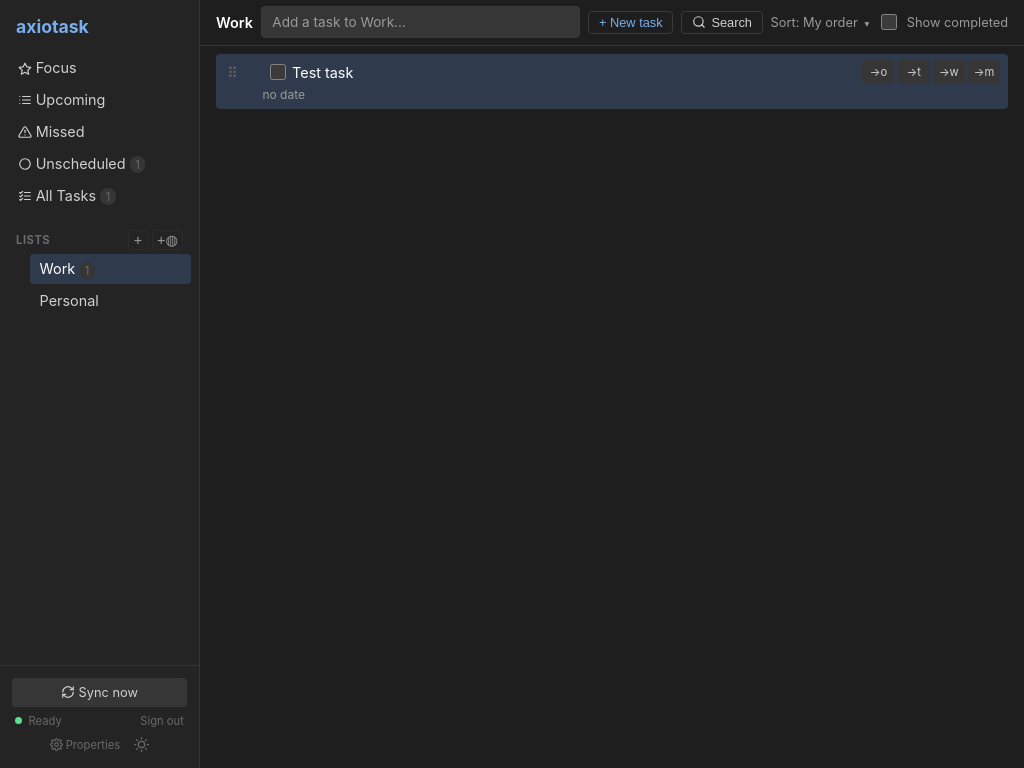
Test: GH#19: Custom context menu › Due date submenu › expands due submenu showing date options
The width and height of the screenshot is (1024, 768).
Check: the text "Test task" is shown, box x1=292 y1=64 x2=353 y2=81
Right-click the element with class "task-widget".
right_click(612, 81)  # box x1=216 y1=54 x2=1008 y2=109
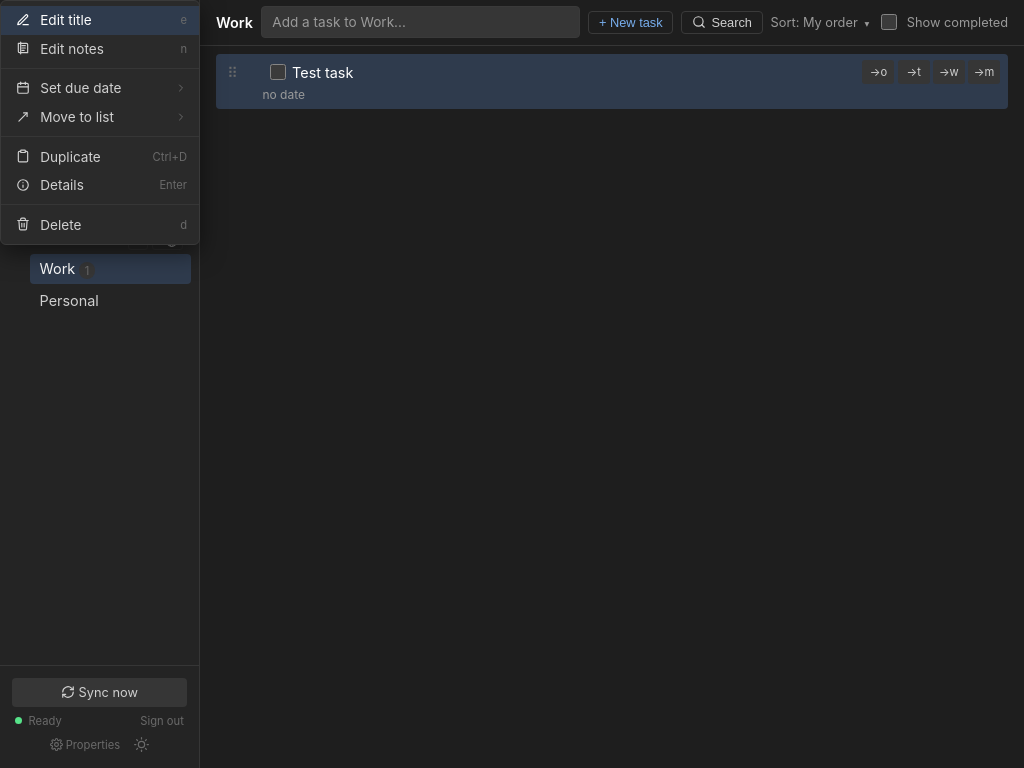
Check: the menu with class "context-menu" is shown, box x1=0 y1=0 x2=200 y2=245
Click the text "Set due date".
click(101, 88)  # box x1=16 y1=80 x2=187 y2=96
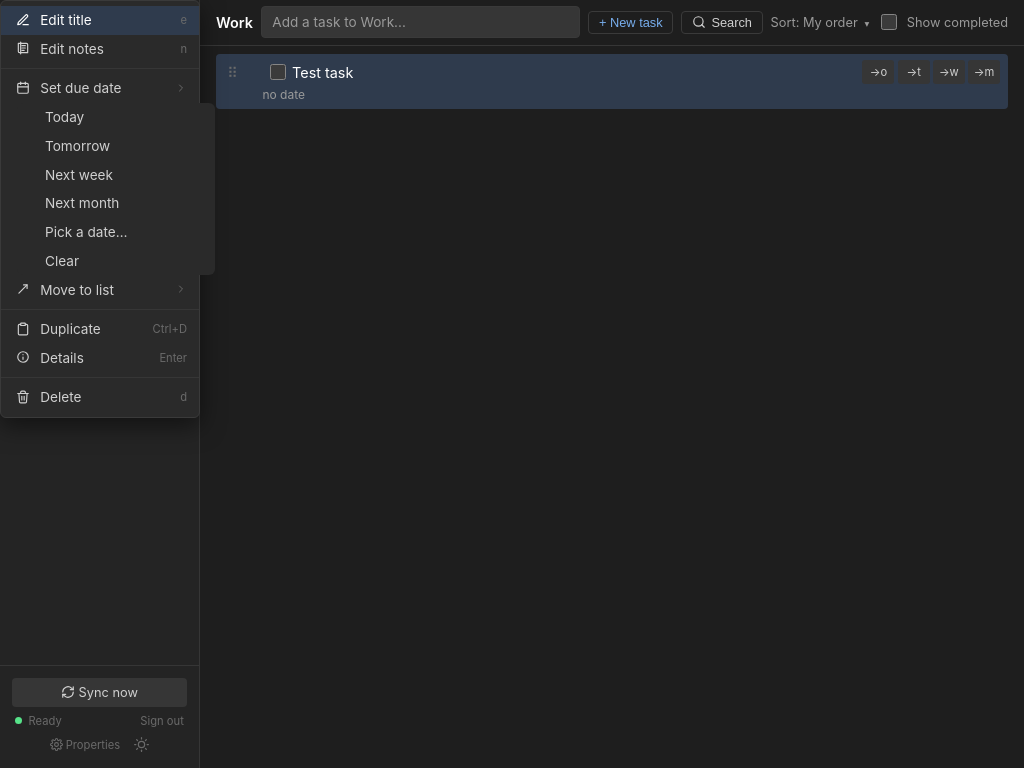
Check: the text "Today" is shown, box x1=45 y1=109 x2=84 y2=125
Check: the text "Tomorrow" is shown, box x1=45 y1=138 x2=110 y2=154
Check: the text "Next week" is shown, box x1=45 y1=167 x2=113 y2=183
